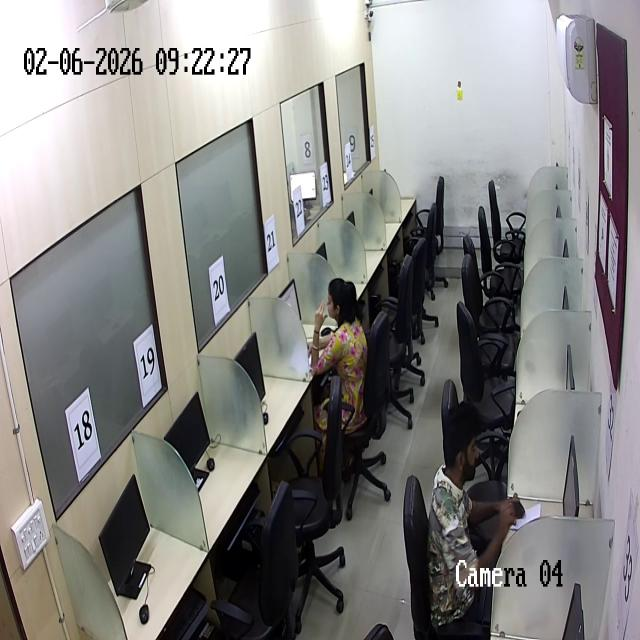phone: (497, 496, 525, 530)
